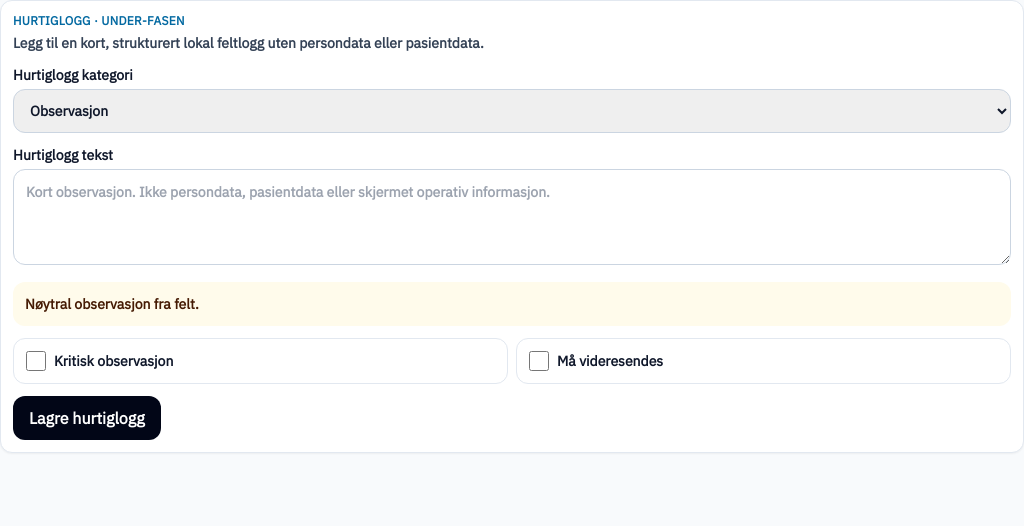
it: QuickFieldLogComposer › still hard-blocks structured identifiers with no override offered
This screenshot has width=1024, height=526.
Type "Ring +47 99 88 77 66 for status" into the text box labelled "Hurtiglogg tekst".
click(512, 217); type("Ring +47 99 88 77 66 for status")  # box top-left (13, 169), bottom-right (1011, 265)
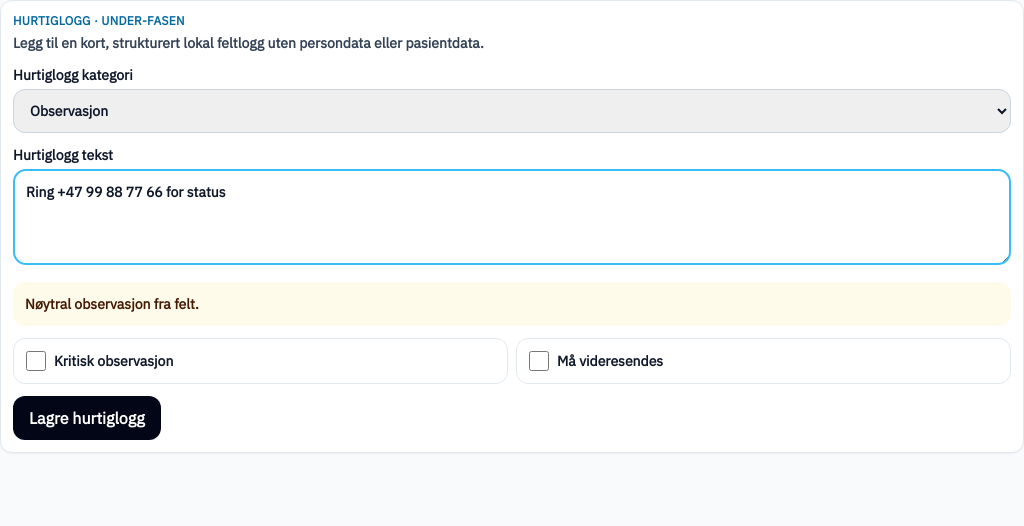
Click the button "Lagre hurtiglogg".
click(87, 418)  # box top-left (13, 396), bottom-right (161, 440)
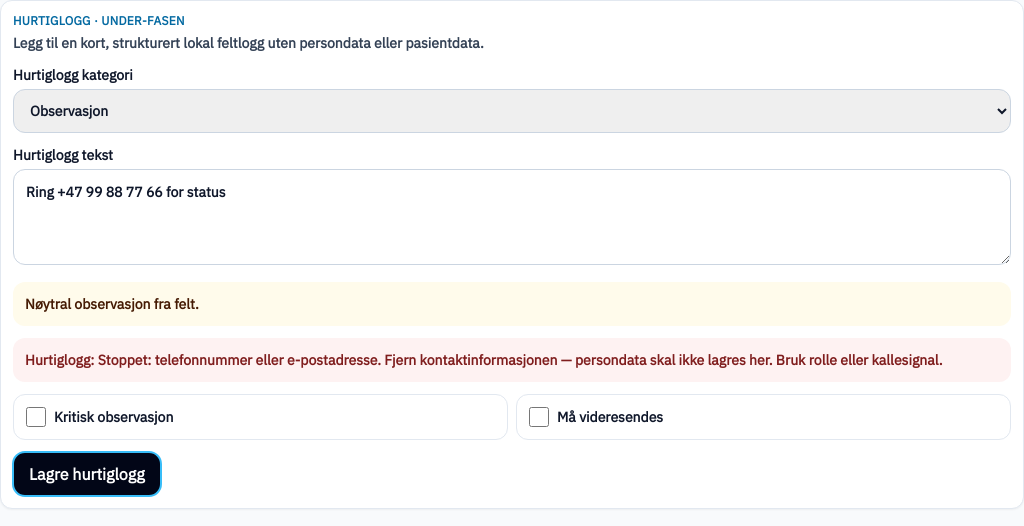
expect the message shows "Stoppet": met, box top-left (25, 351), bottom-right (942, 369)
